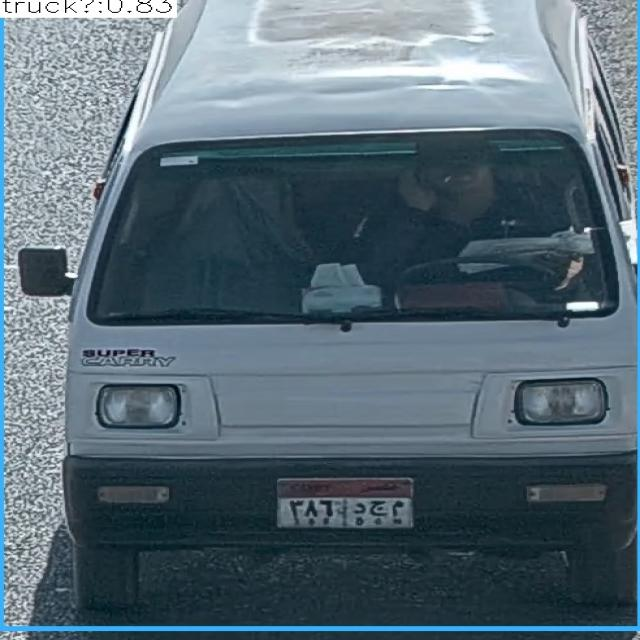windshield: (97, 135, 618, 317)
